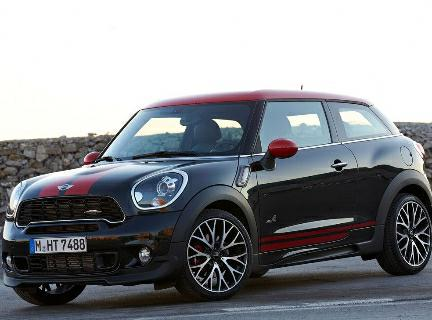MINI-JCWPACEMAN: (0, 86, 432, 313)
